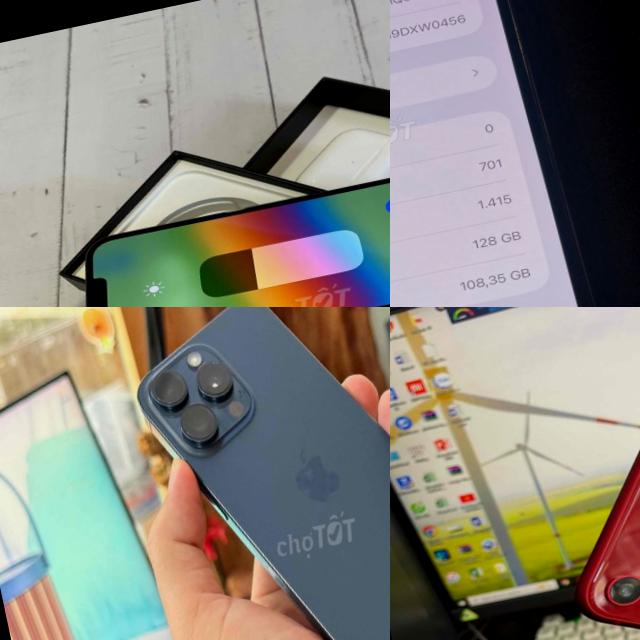gen_12_13: (57, 151, 390, 307)
gen_14: (390, 0, 610, 307)
gen_15: (115, 307, 390, 640)
scratch: (580, 584, 605, 614), (209, 355, 221, 367)
